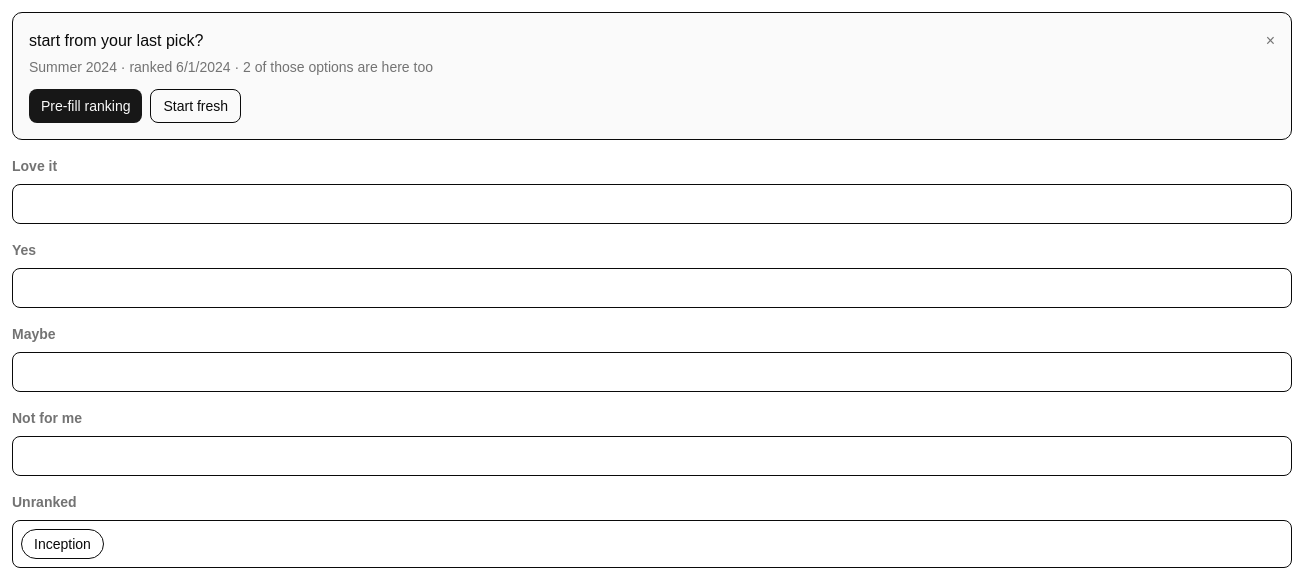
it: TierRanking › prior pick banner › applies pre-fill assignments when Pre-fill ranking is clicked › moves the matched option into the pre-filled tier after pre-fill
What coordinates should you click on to do the following:
click the button "Pre-fill ranking"
I would click on:
 (86, 106)
Its box is [29, 89, 142, 123].
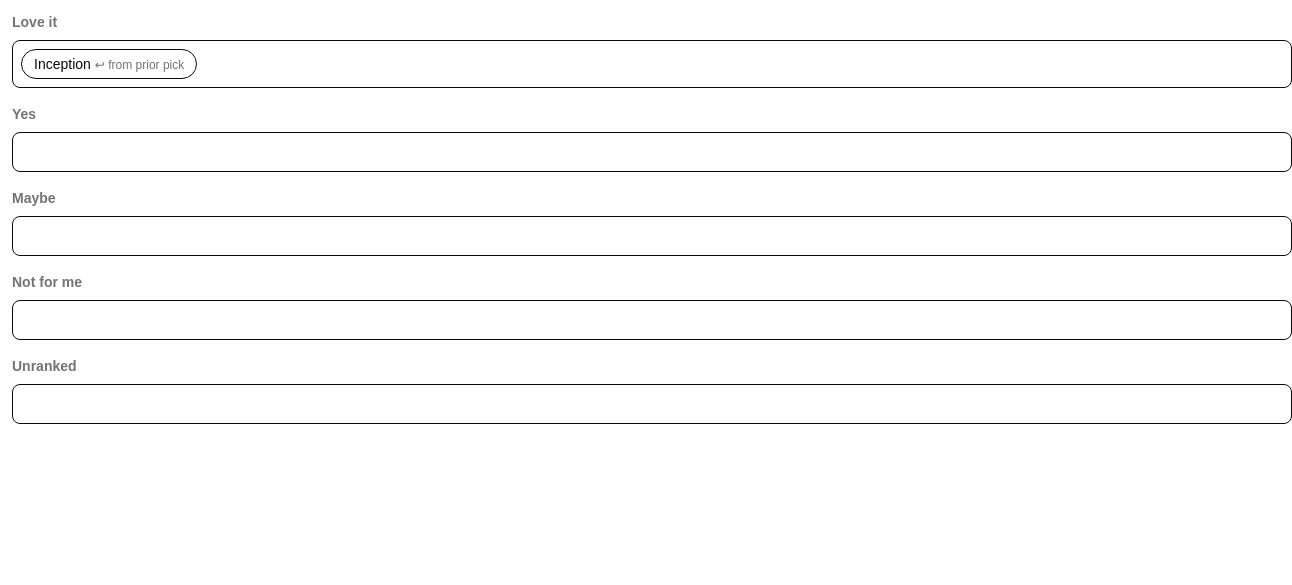
Check: the text "Love it" shows "Inception", box [21, 49, 197, 79]
